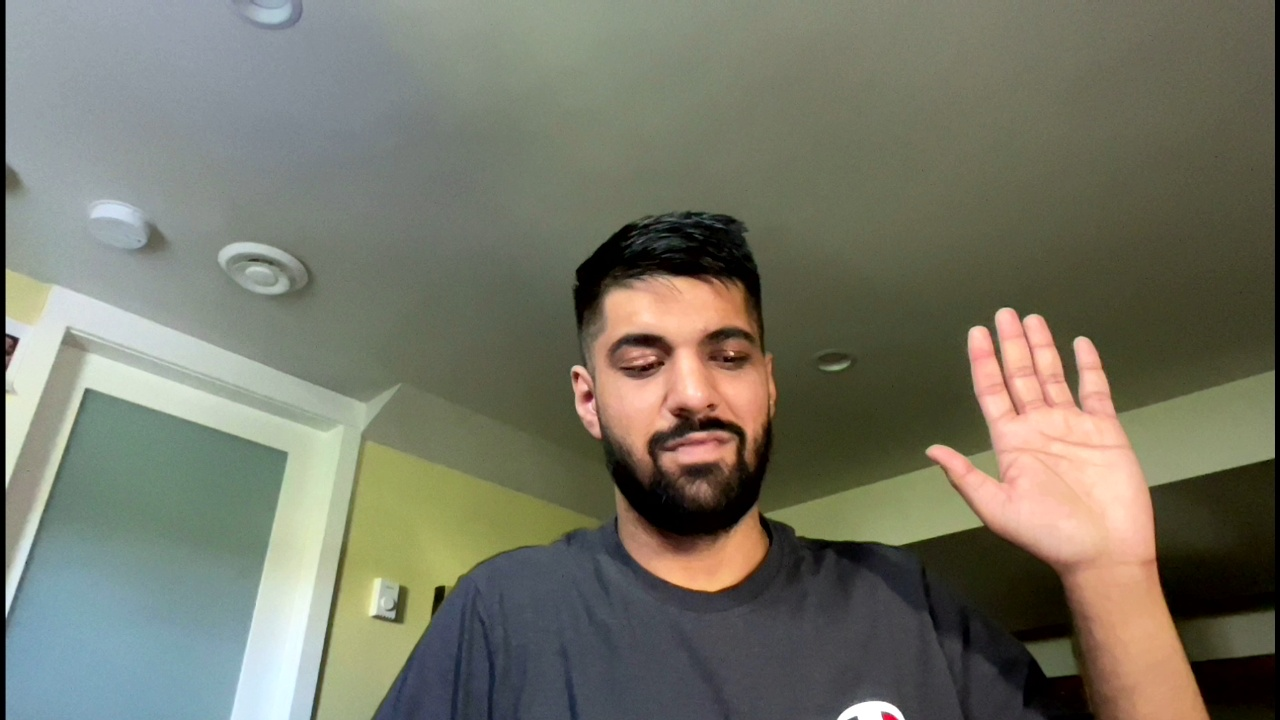Hey!: (905, 299, 1211, 575)
